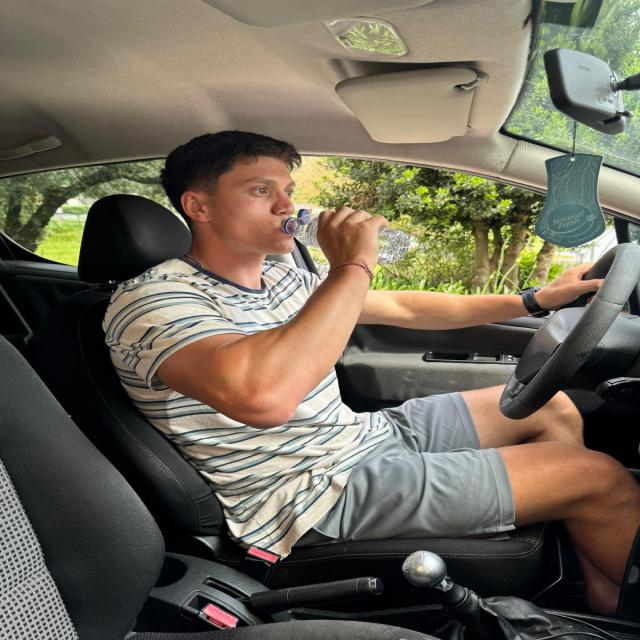Drinking: (287, 200, 430, 262)
